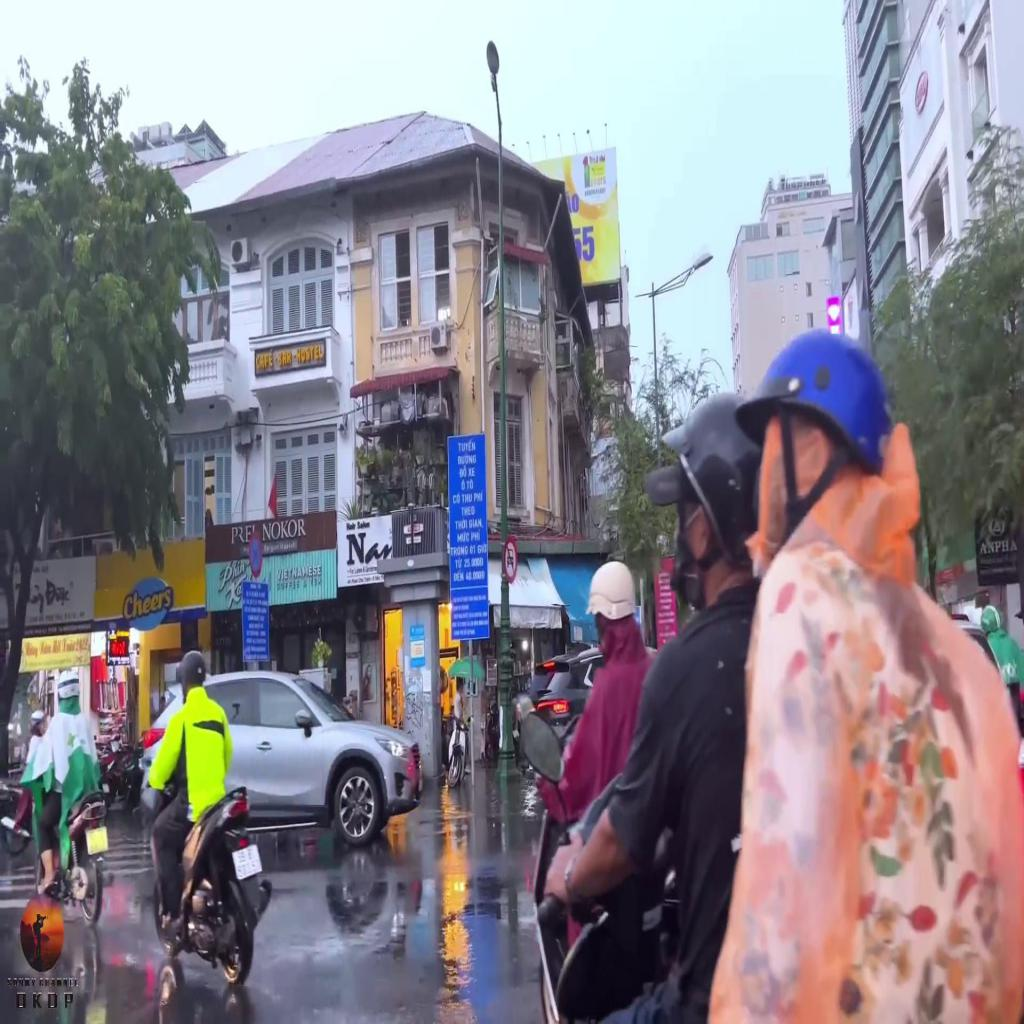cam_dung_xe_va_do_xe: (248, 532, 261, 576)
cam_o_to: (503, 540, 516, 581)
